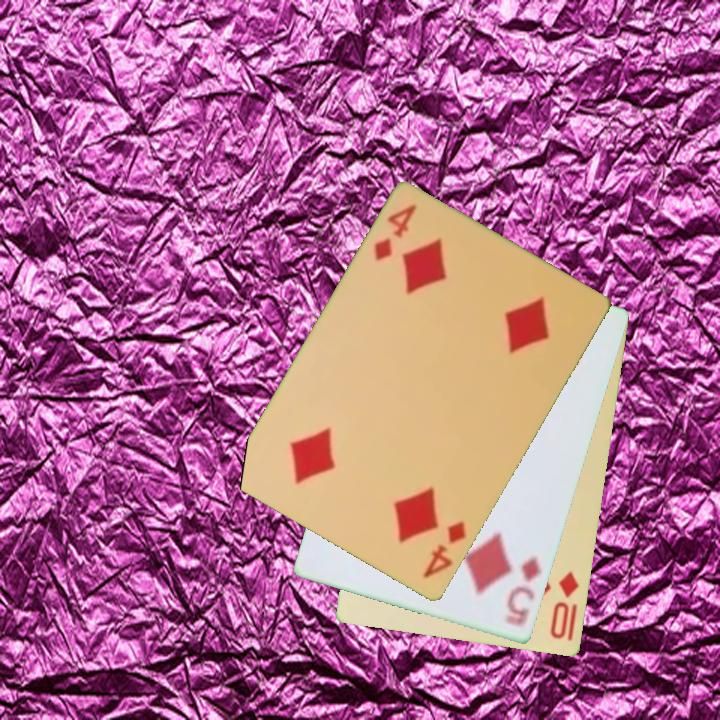10d: (546, 568, 582, 643)
4d: (419, 518, 469, 582), (370, 201, 420, 265)
5d: (502, 553, 545, 631)
